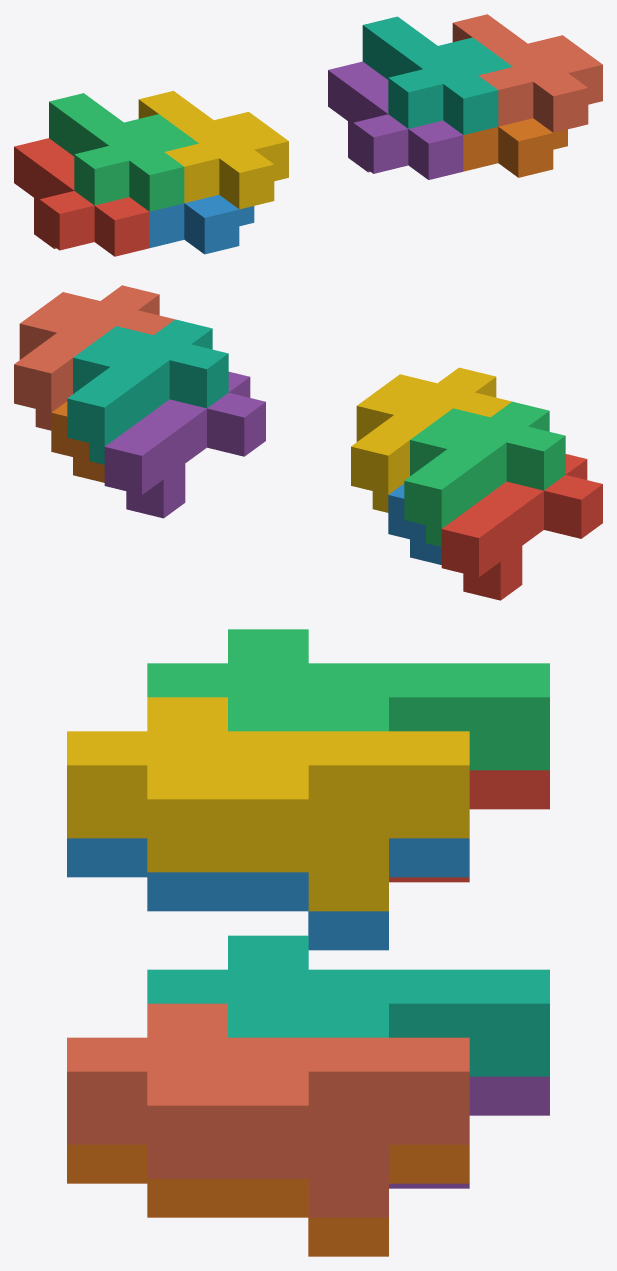
The model's file is tiling.obj.
3 renders of one model, top to bottom at view 1: azimuth 30°, elevation 25°; view 2: azimuth 150°, elevation 25°; view 3: azimuth 270°, elevation 25°, orthographic. The views are drawn at different scales.
Parts seen in each view (by area): view 1: copy_1_domain_7, copy_1_domain_3, copy_1_domain_8, copy_1_domain_4, copy_1_domain_1, copy_1_domain_5, copy_1_domain_2, copy_1_domain_6; view 2: copy_1_domain_7, copy_1_domain_3, copy_1_domain_1, copy_1_domain_5, copy_1_domain_8, copy_1_domain_4, copy_1_domain_2, copy_1_domain_6; view 3: copy_1_domain_8, copy_1_domain_4, copy_1_domain_7, copy_1_domain_3, copy_1_domain_2, copy_1_domain_6, copy_1_domain_1, copy_1_domain_5.
Boxes of the visible parts, x1,y1,x2,y2 form: copy_1_domain_7: [362, 16, 512, 134]; copy_1_domain_3: [49, 93, 198, 211]; copy_1_domain_8: [452, 14, 602, 132]; copy_1_domain_4: [138, 91, 288, 209]; copy_1_domain_1: [14, 138, 149, 256]; copy_1_domain_5: [328, 61, 463, 179]; copy_1_domain_2: [149, 195, 254, 254]; copy_1_domain_6: [463, 118, 567, 177]; copy_1_domain_7: [67, 319, 228, 464]; copy_1_domain_3: [404, 401, 565, 546]; copy_1_domain_1: [441, 454, 602, 600]; copy_1_domain_5: [104, 371, 265, 518]; copy_1_domain_8: [14, 285, 174, 430]; copy_1_domain_4: [351, 367, 511, 512]; copy_1_domain_2: [388, 483, 441, 564]; copy_1_domain_6: [51, 401, 104, 482]; copy_1_domain_8: [67, 1003, 469, 1217]; copy_1_domain_4: [67, 697, 469, 911]; copy_1_domain_7: [147, 935, 549, 1076]; copy_1_domain_3: [147, 629, 549, 770]; copy_1_domain_2: [67, 838, 469, 950]; copy_1_domain_6: [67, 1144, 469, 1256]; copy_1_domain_1: [389, 770, 549, 882]; copy_1_domain_5: [389, 1076, 549, 1188].
Bounding box in the file's own units: 15 × 3 × 6.
